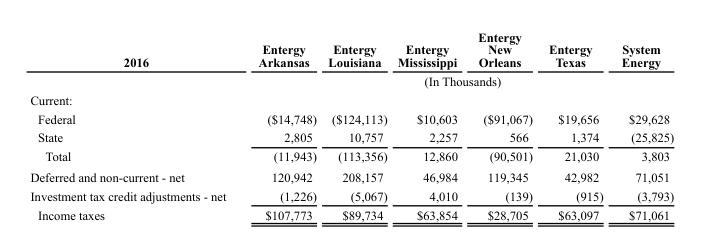table: (29, 29, 673, 221)
table column: (29, 29, 241, 221), (241, 29, 321, 221), (391, 29, 467, 221), (467, 29, 539, 221), (539, 29, 611, 221), (321, 29, 391, 221), (611, 29, 673, 221)
table column header: (29, 29, 673, 89)
table projected row header: (29, 89, 673, 108)
table row: (29, 29, 673, 70), (29, 146, 673, 166), (29, 70, 673, 89), (29, 89, 673, 108), (29, 108, 673, 127), (29, 127, 673, 146), (29, 166, 673, 185), (29, 185, 673, 204), (29, 204, 673, 221)
table spanning cell: (29, 29, 241, 89), (241, 70, 673, 89)
